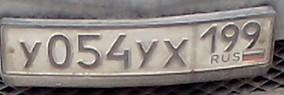license-plateSW: (1, 13, 275, 77)
